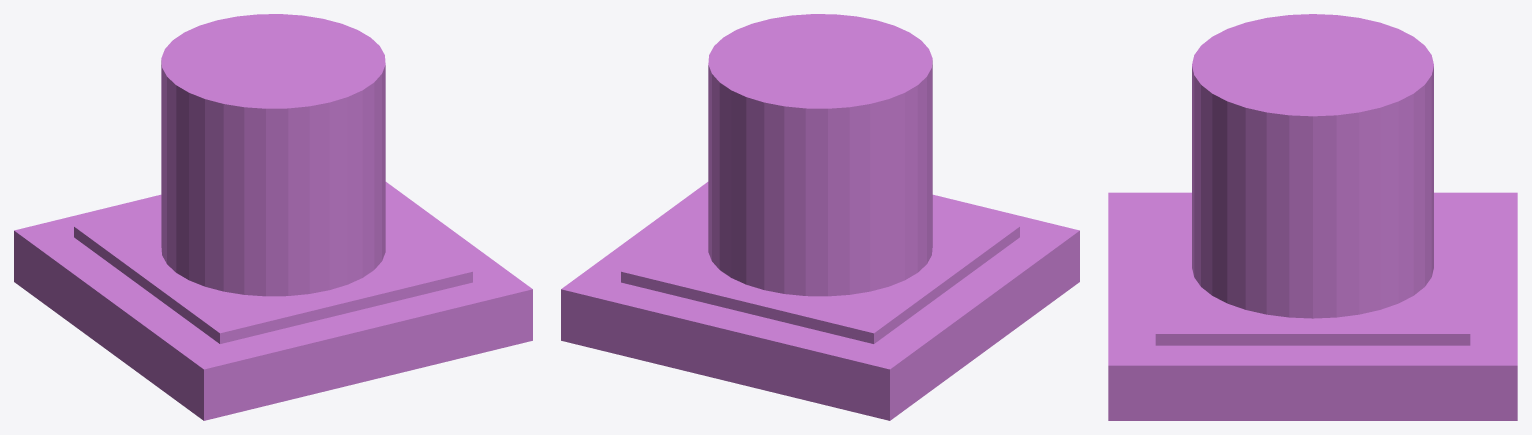
File: stand.glb
The picture shows the model from 3 angles, left to right: view 1: azimuth 30°, elevation 25°; view 2: azimuth 150°, elevation 25°; view 3: azimuth 270°, elevation 25°; orthographic projection. The views are drawn at different scales.
Visible parts, largest first — view 1: Cylinder, Cube, Cube.001; view 2: Cylinder, Cube, Cube.001; view 3: Cylinder, Cube, Cube.001.
Boxes of the visible parts, <box> form: Cylinder: <box>161,14,385,296</box>; Cube: <box>14,182,532,420</box>; Cube.001: <box>74,205,472,343</box>; Cylinder: <box>708,14,932,296</box>; Cube: <box>561,182,1079,420</box>; Cube.001: <box>621,205,1019,343</box>; Cylinder: <box>1192,14,1433,318</box>; Cube: <box>1108,192,1517,420</box>; Cube.001: <box>1155,201,1470,345</box>.
Bounding box in the file's own units: 2 × 1.45 × 2.
